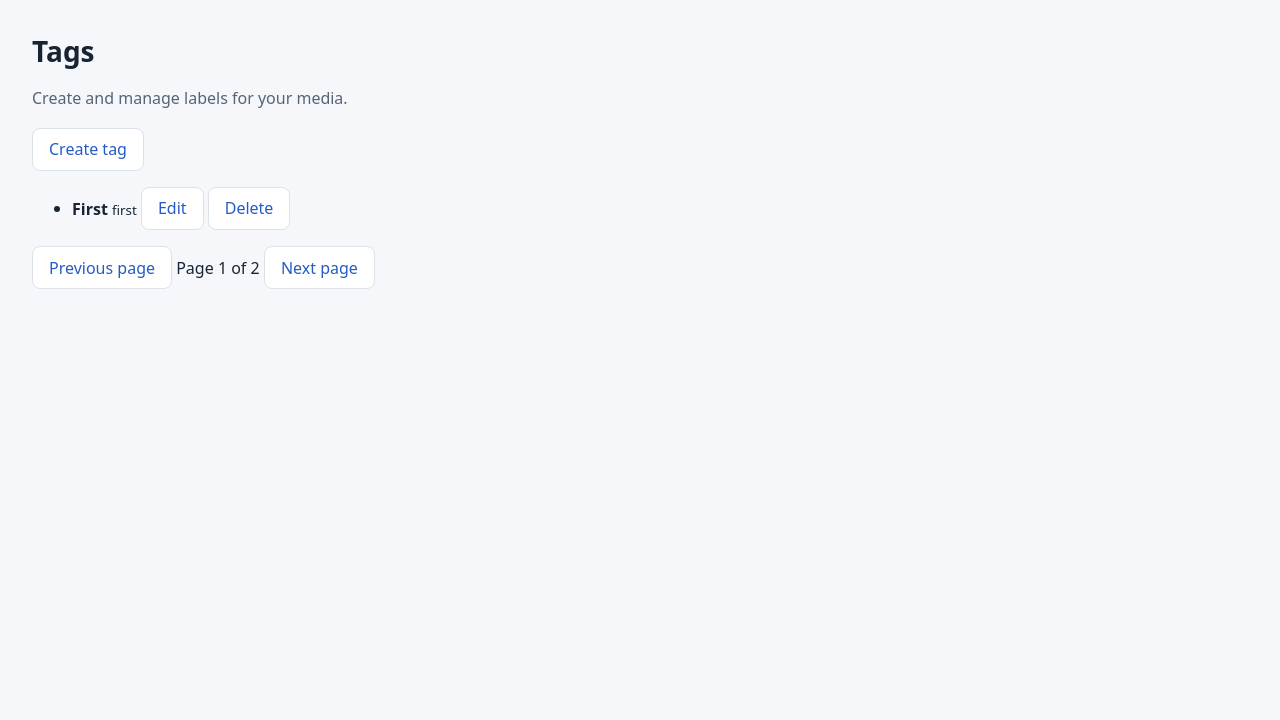
Scenario: paginates tags and recovers the last page after deletion
Check: the text "First" is shown, box [72,197,108,219]
Click the button "Next page": (319, 268) [264,246,375,289]
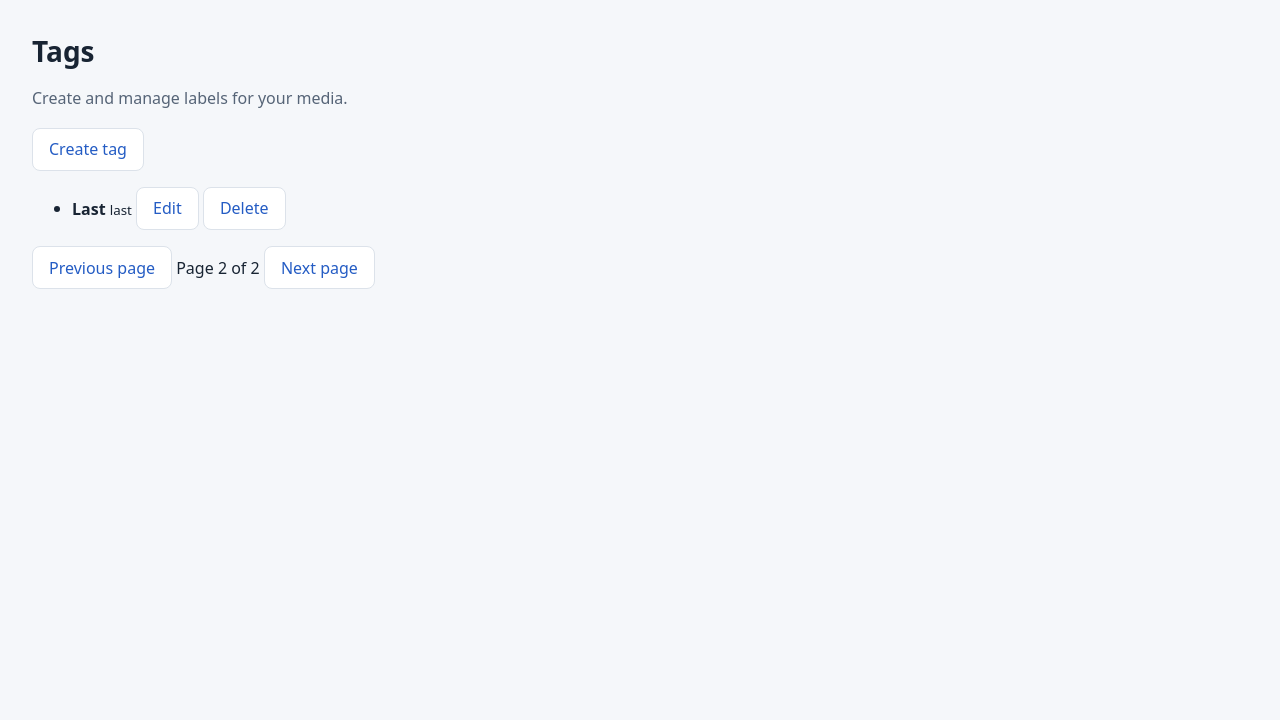
Check: the text "Last" is shown, box [72,197,106,219]
Click the button with aria-label "Delete Last": (244, 208) [203,187,286,230]
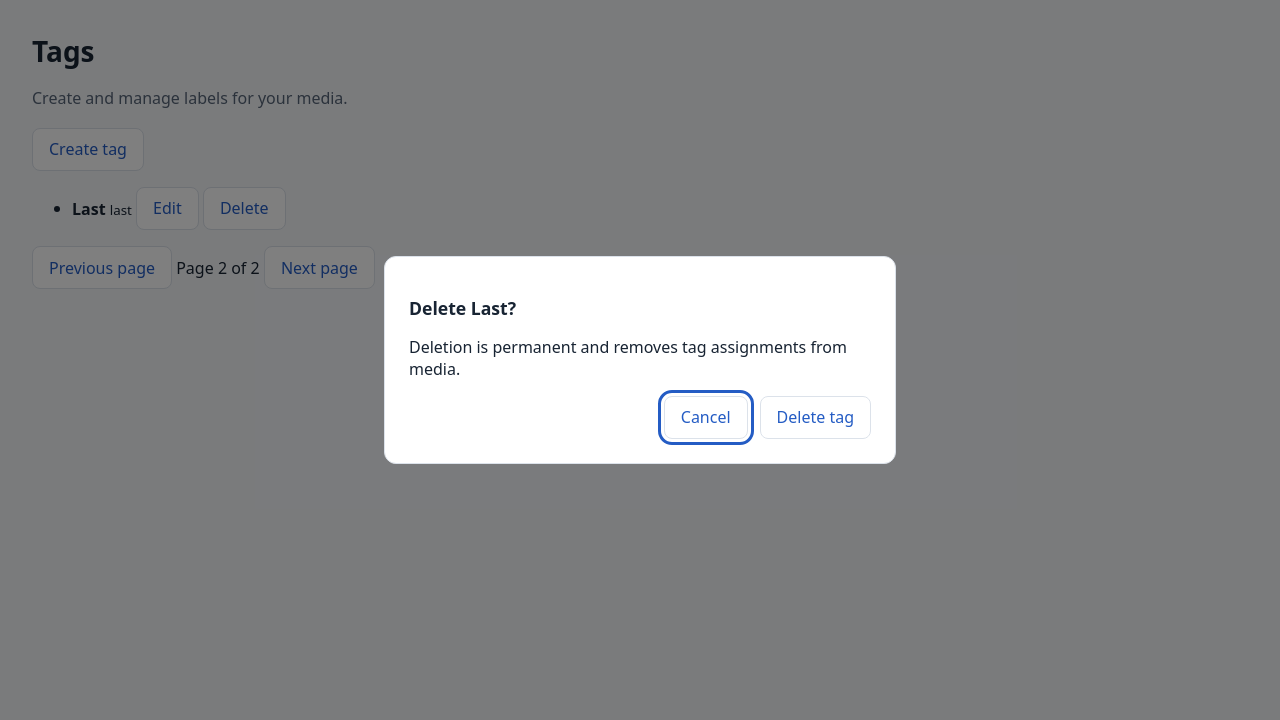
Click the button "Delete tag": (815, 417) [760,396,871,439]
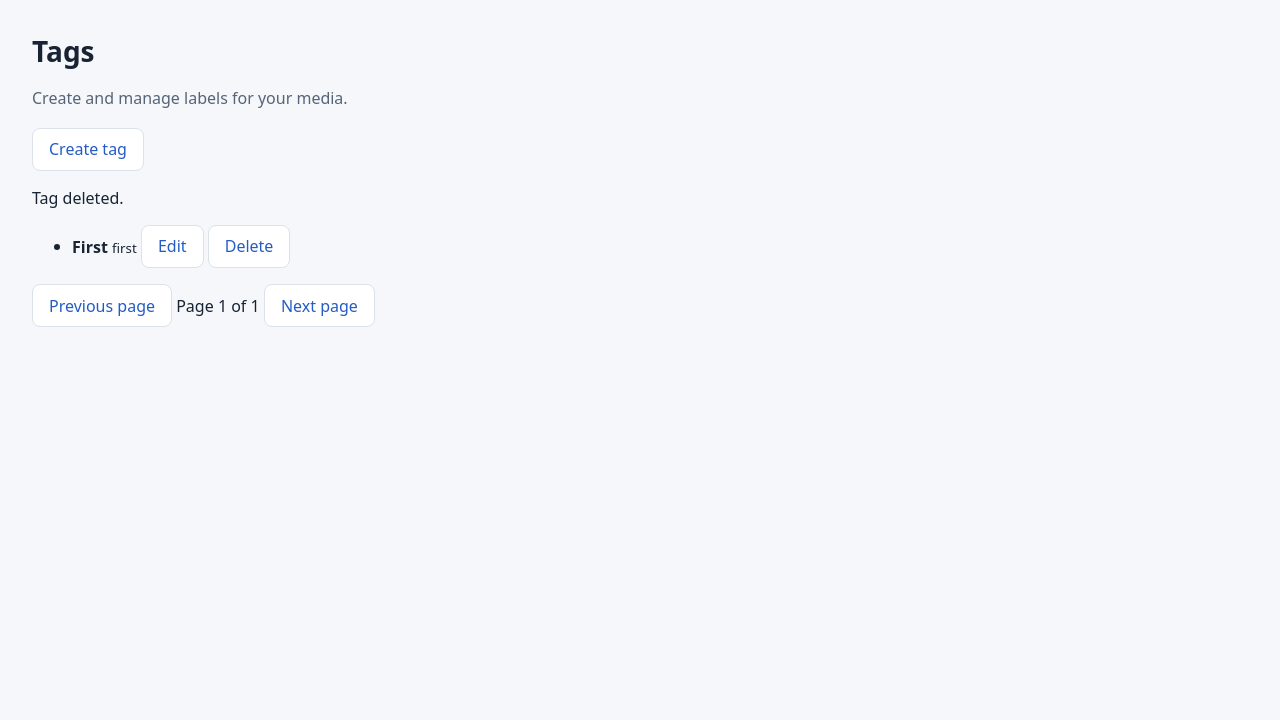
Check: the button "Next page" is disabled, box [264,284,375,327]
Check: the text "First" is shown, box [72,235,108,257]
